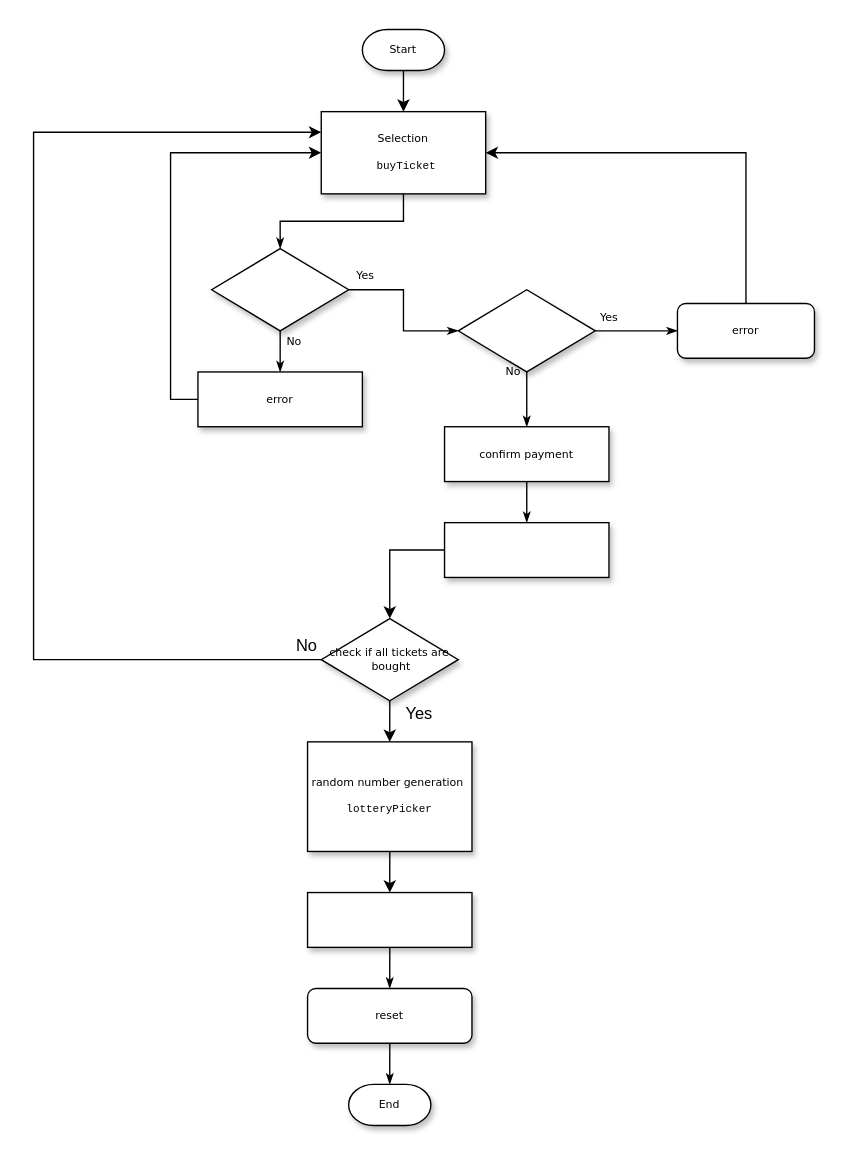
Image size: 847x1159. Some labels were removed from this diagram. Here are the shapes that lost their labels. From the top down, the centre of each, then its label:
At point 281,291: "required amount".
At point 527,332: "check if the ticket is bought already".
At point 527,551: "add address to array".
At point 390,921: "winnner sendReward".
